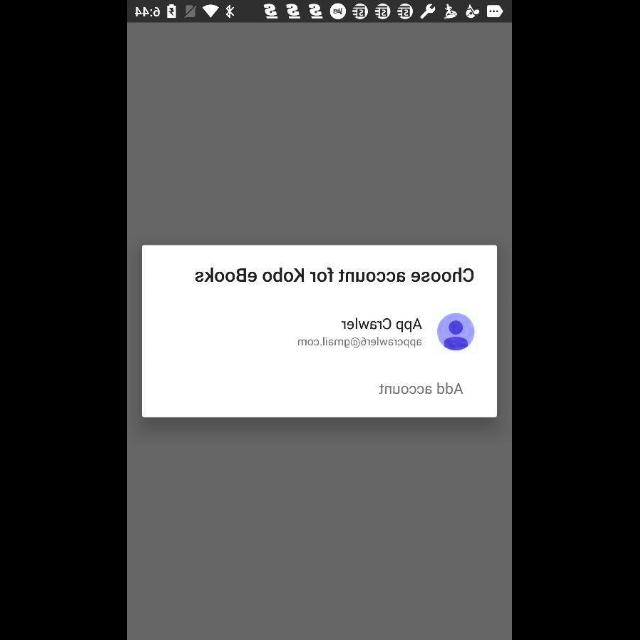icon: (438, 314, 474, 351)
panel: (142, 245, 498, 418)
text: (196, 267, 474, 283), (298, 336, 422, 349), (341, 317, 423, 333), (380, 382, 464, 394)
uppertaskbar: (128, 1, 512, 23)
